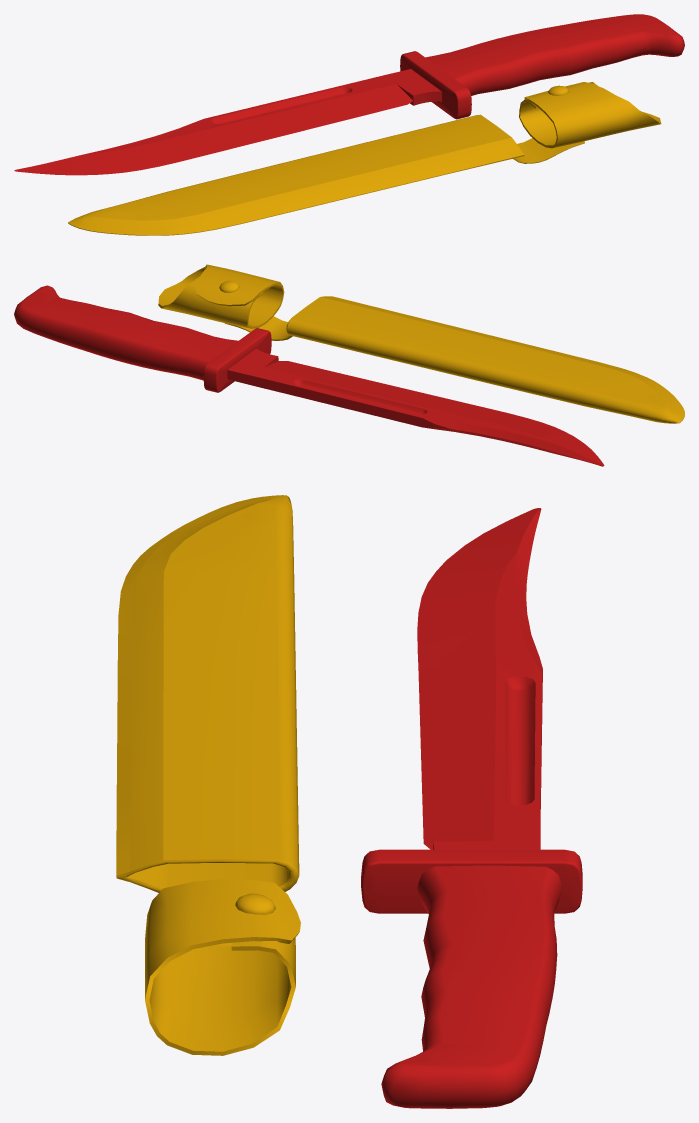
The model's file is Sketch.fbx.
3 renders of one model, top to bottom at view 1: azimuth 30°, elevation 25°; view 2: azimuth 150°, elevation 25°; view 3: azimuth 270°, elevation 25°, orthographic. The views are drawn at different scales.
Parts seen in each view (by area): view 1: LP_Leather, LP_Blade, LP_Handle, polySurface3, LP_Guard; view 2: LP_Leather, LP_Blade, LP_Handle, polySurface3, LP_Guard; view 3: LP_Leather, LP_Blade, LP_Handle, polySurface3, LP_Guard.
Part boxes in pixels (x1,y1,x2,y2): LP_Leather: (68, 114, 584, 235); LP_Blade: (14, 69, 441, 175); LP_Handle: (425, 14, 684, 95); polySurface3: (519, 82, 661, 148); LP_Guard: (400, 51, 471, 119); LP_Leather: (225, 296, 684, 423); LP_Blade: (227, 348, 604, 466); LP_Handle: (14, 285, 238, 380); polySurface3: (158, 264, 284, 328); LP_Guard: (203, 328, 271, 392); LP_Leather: (116, 495, 299, 946); LP_Blade: (417, 508, 542, 849); LP_Handle: (381, 865, 562, 1108); polySurface3: (145, 879, 300, 1055); LP_Guard: (361, 849, 582, 913).
Bounding box in the file's own units: 68.36 × 5.04 × 22.51.
